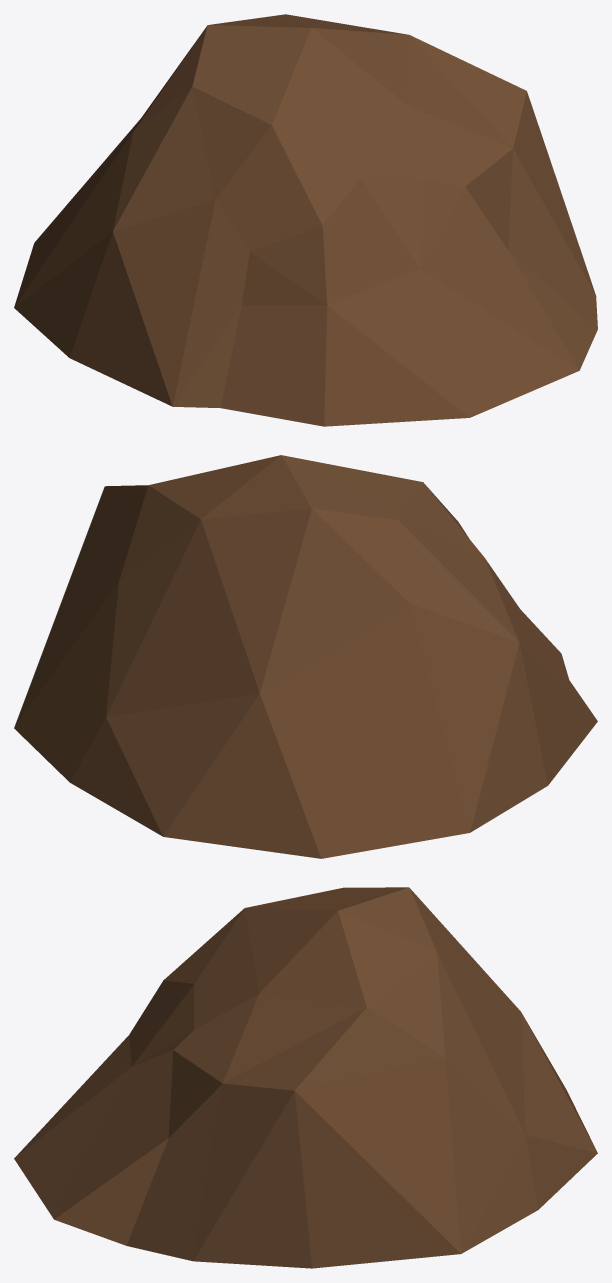
File: pile_of_dirt_1.fbx
3 views of the same model, one above another, from view 1: azimuth 30°, elevation 25°; view 2: azimuth 150°, elevation 25°; view 3: azimuth 270°, elevation 25° (orthographic). The views are drawn at different scales.
Visible parts, largest first — view 1: pPlatonic1; view 2: pPlatonic1; view 3: pPlatonic1.
Boxes of the visible parts, x1,y1,x2,y2 form: pPlatonic1: (14, 14, 597, 426); pPlatonic1: (14, 455, 597, 858); pPlatonic1: (14, 887, 597, 1268).
Size of the model in its own units: 2.22 by 1.18 by 2.47.
